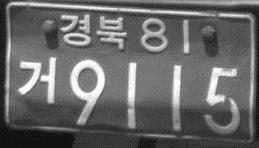1: (123, 58, 140, 132), (169, 61, 186, 134), (179, 15, 193, 57)
5: (202, 65, 242, 136)
8: (138, 15, 169, 53)
9: (69, 57, 106, 128)
거: (16, 55, 57, 105)
경북_O: (58, 11, 128, 53)
